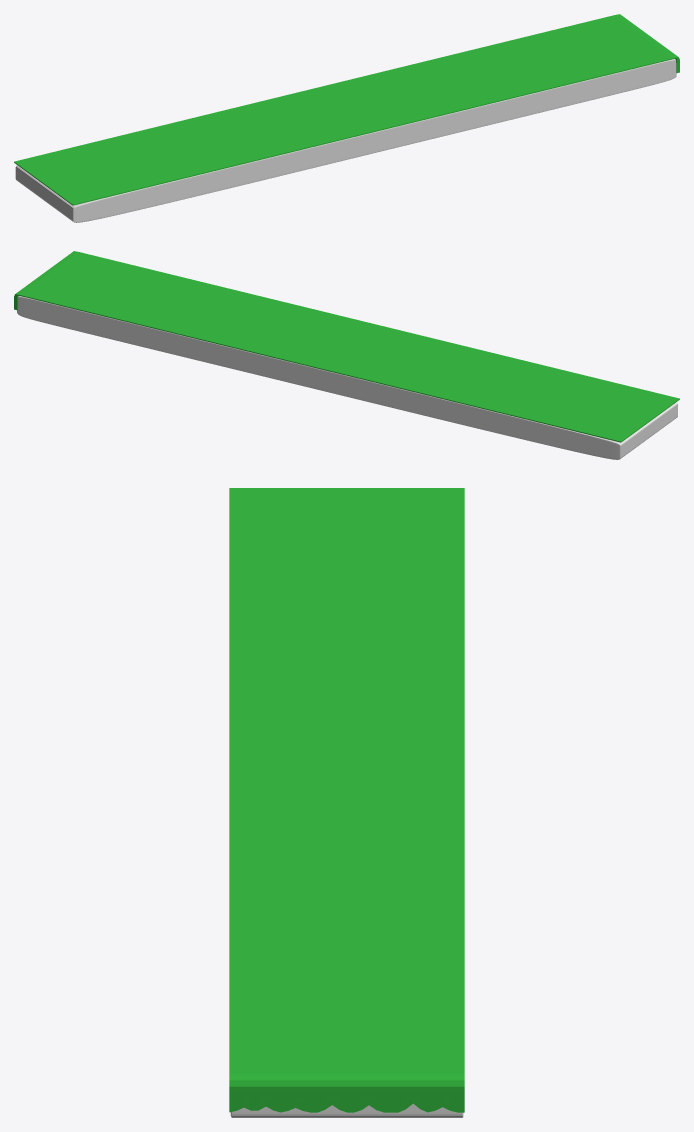
File: Tile_Plataforma.fbx
The picture shows the model from 3 angles, top to bottom: view 1: azimuth 30°, elevation 25°; view 2: azimuth 150°, elevation 25°; view 3: azimuth 270°, elevation 25°; orthographic projection. The views are drawn at different scales.
Visible parts, largest first — view 1: Cube.011; view 2: Cube.011; view 3: Cube.011.
Part boxes in pixels (<box>): Cube.011: <box>14,14,679,222</box>; Cube.011: <box>14,251,679,459</box>; Cube.011: <box>229,488,464,1117</box>.
Size of the model in its own units: 4090 by 145 by 687.
